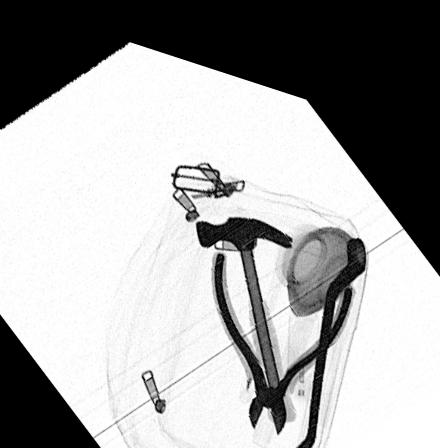Hammer: (195, 198, 293, 379)
Pliers: (210, 234, 357, 416)
Wrench: (275, 211, 368, 448)
